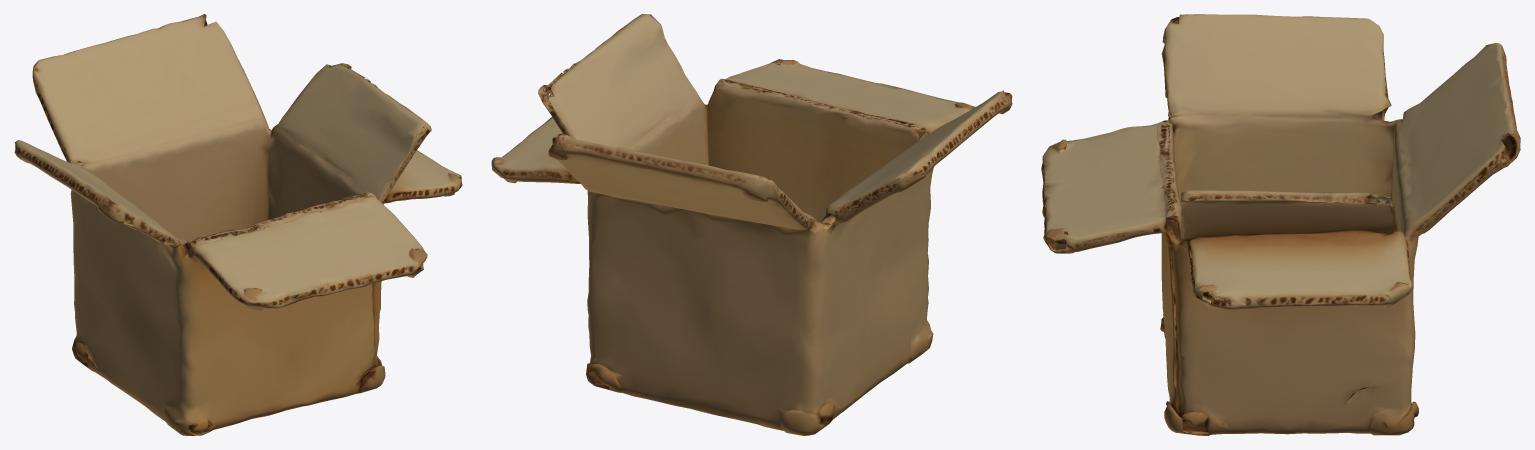
File: cardboard_box_h3.glb
3 views of the same model, side by side, from view 1: azimuth 30°, elevation 25°; view 2: azimuth 150°, elevation 25°; view 3: azimuth 270°, elevation 25° (orthographic). The views are drawn at different scales.
Parts seen in each view (by area): view 1: tripo_node_e12fdf38-ea10-4c43-8758-df74bc182060; view 2: tripo_node_e12fdf38-ea10-4c43-8758-df74bc182060; view 3: tripo_node_e12fdf38-ea10-4c43-8758-df74bc182060.
Boxes of the visible parts, left/top/right/bottom form: tripo_node_e12fdf38-ea10-4c43-8758-df74bc182060: left=14, top=14, right=462, bottom=435; tripo_node_e12fdf38-ea10-4c43-8758-df74bc182060: left=491, top=14, right=1012, bottom=435; tripo_node_e12fdf38-ea10-4c43-8758-df74bc182060: left=1041, top=14, right=1520, bottom=435.
Size of the model in its own units: 0.9974 by 0.6781 by 1.
Materials: 1 (1 with a texture image).
